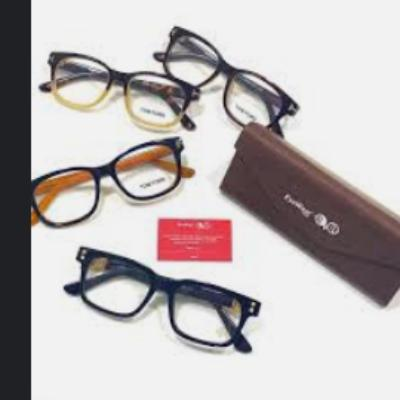glasses: (61, 241, 264, 356), (154, 20, 320, 137), (30, 135, 196, 237), (40, 47, 201, 133)
